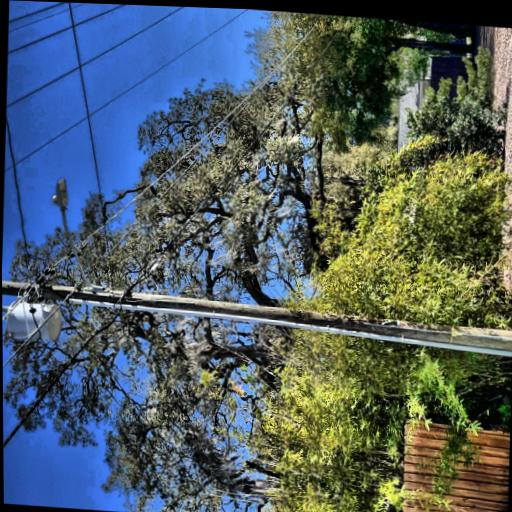pole: (27, 1, 110, 510)
street light: (80, 169, 185, 246)
transformer: (33, 117, 73, 185)
